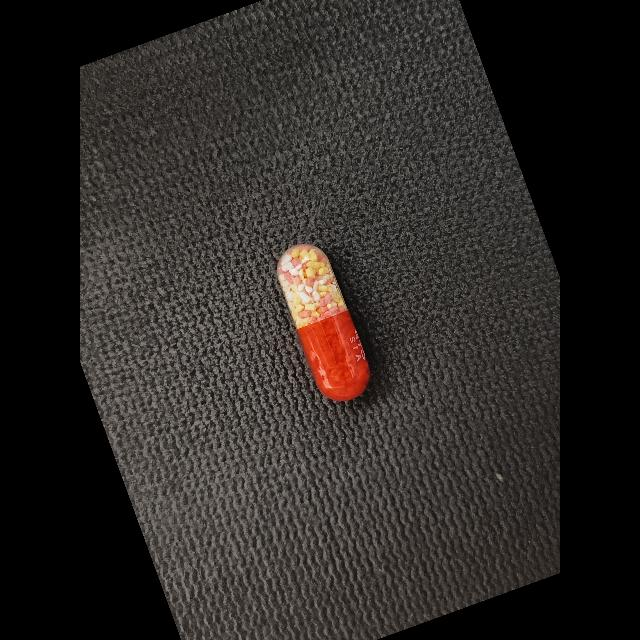Intact Capsule: (277, 244, 370, 401)
